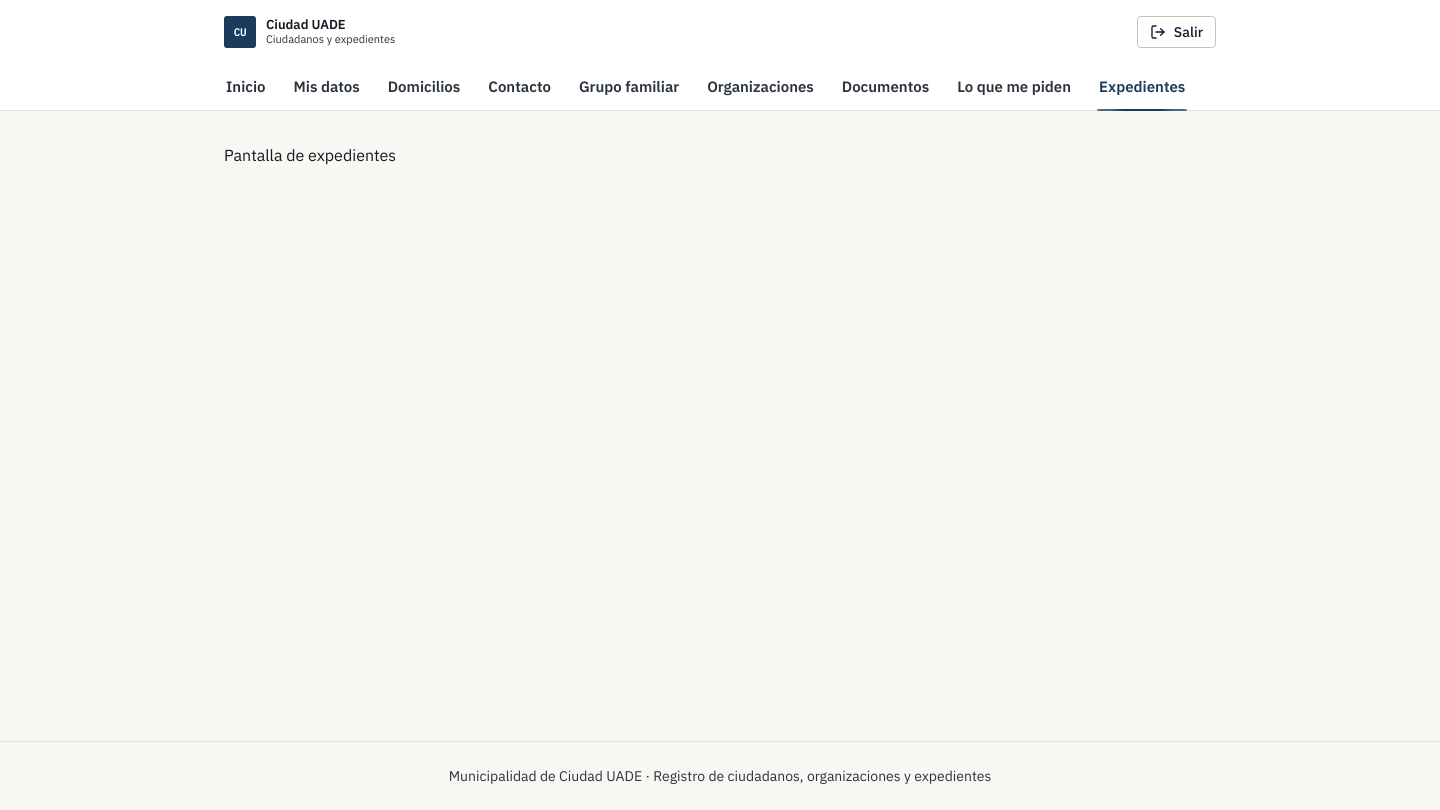
Test: LayoutPortal: cambio de sección › hacia una pestaña de la izquierda, el orden del medio va al revés
The image size is (1440, 810).
Click the link "Mis datos": (327, 86) 294,77 -> 360,96
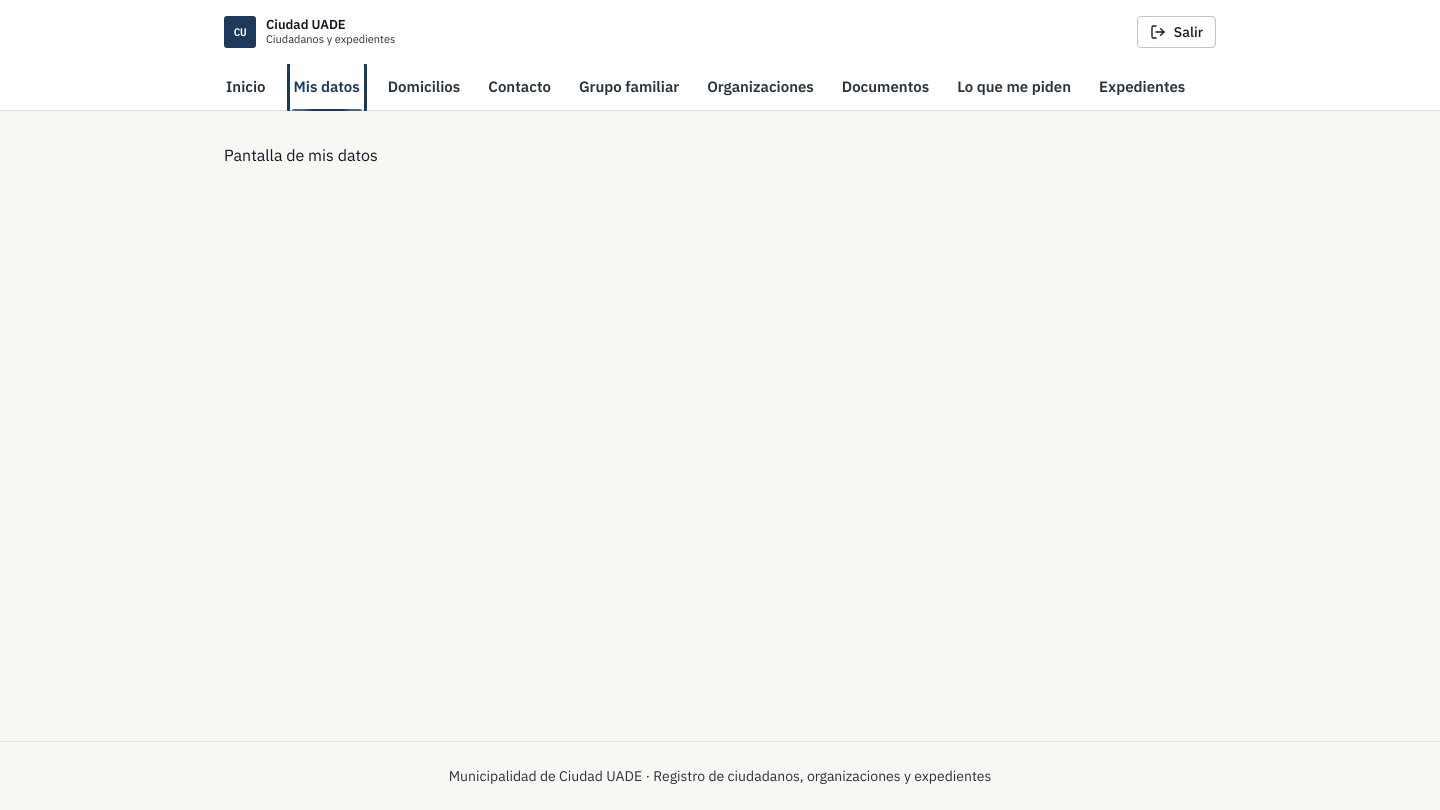
Now the text "Pantalla de mis datos" is shown, box 224,144 -> 378,164
